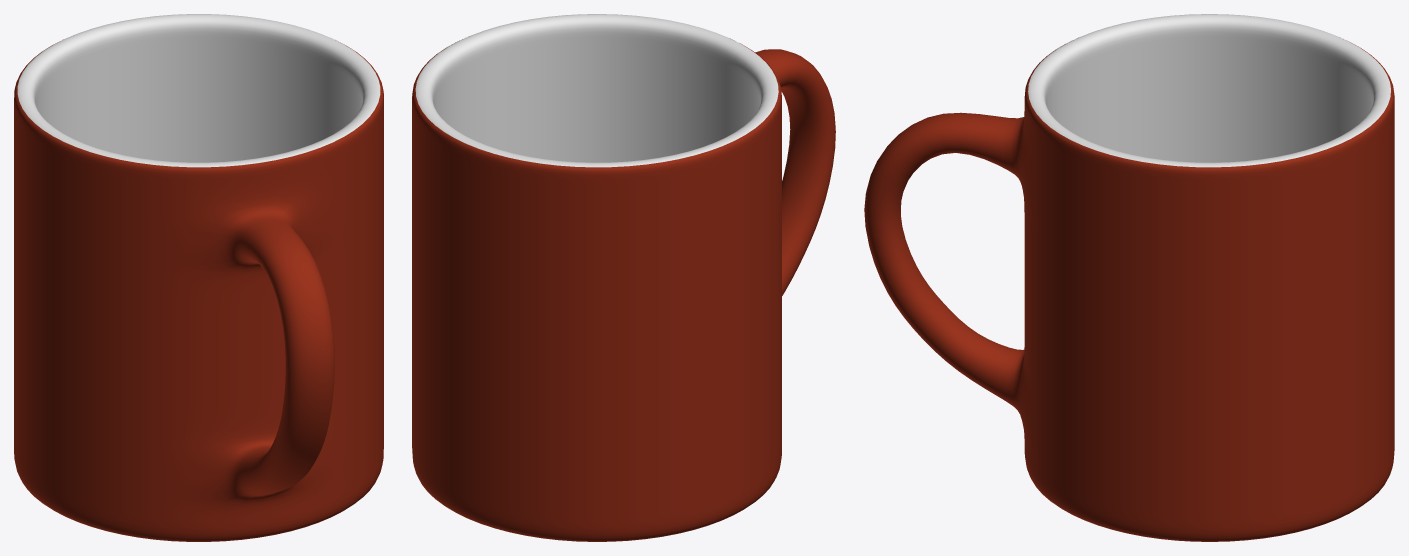
Rendered from mug.glb.
3 views of the same model, side by side, from view 1: azimuth 30°, elevation 25°; view 2: azimuth 150°, elevation 25°; view 3: azimuth 270°, elevation 25° (orthographic).
Visible parts, largest first — view 1: Mesh.Mug; view 2: Mesh.Mug; view 3: Mesh.Mug.
Part boxes in pixels (x1,y1,x2,y2): Mesh.Mug: (14,14,383,541); Mesh.Mug: (412,14,835,541); Mesh.Mug: (864,14,1394,541).
Bounding box in the file's own units: 195 × 220 × 279.
